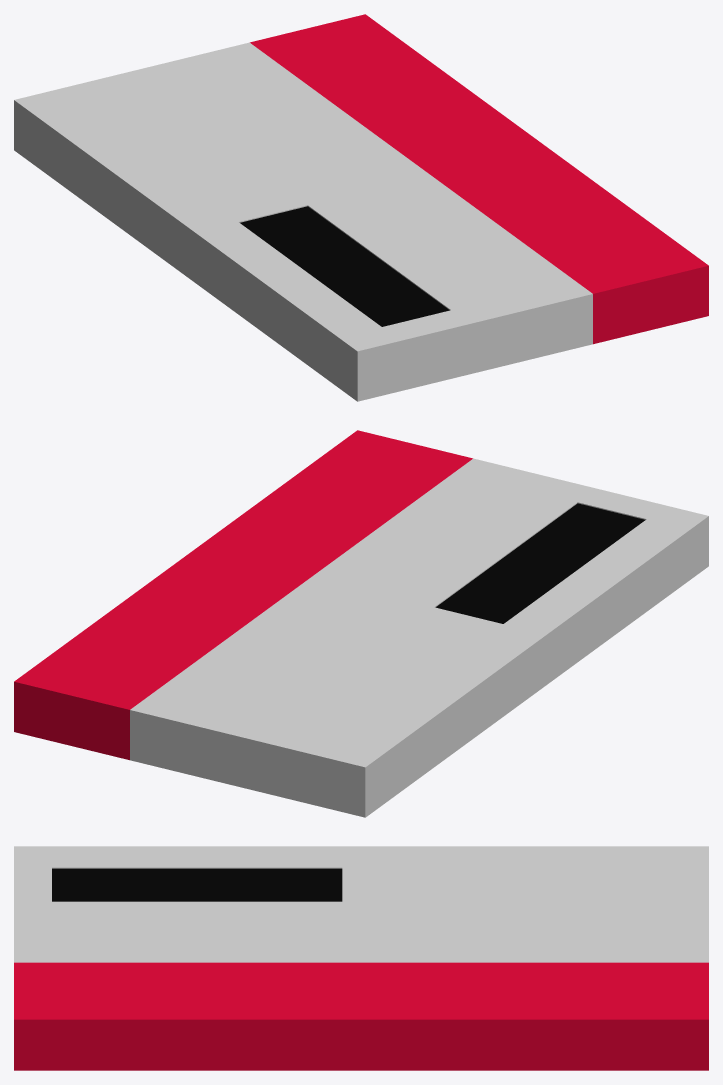
Rendered from red card.glb.
3 renders of one model, top to bottom at view 1: azimuth 30°, elevation 25°; view 2: azimuth 150°, elevation 25°; view 3: azimuth 270°, elevation 25°, orthographic.
Parts seen in each view (by area): view 1: Cube1-col; view 2: Cube1-col; view 3: Cube1-col.
Boxes of the visible parts, x1=… form: Cube1-col: x1=14, y1=14, x2=708, y2=401; Cube1-col: x1=14, y1=430, x2=708, y2=817; Cube1-col: x1=14, y1=846, x2=708, y2=1070.
Size of the model in its own units: 0.95 by 0.13 by 1.61.
